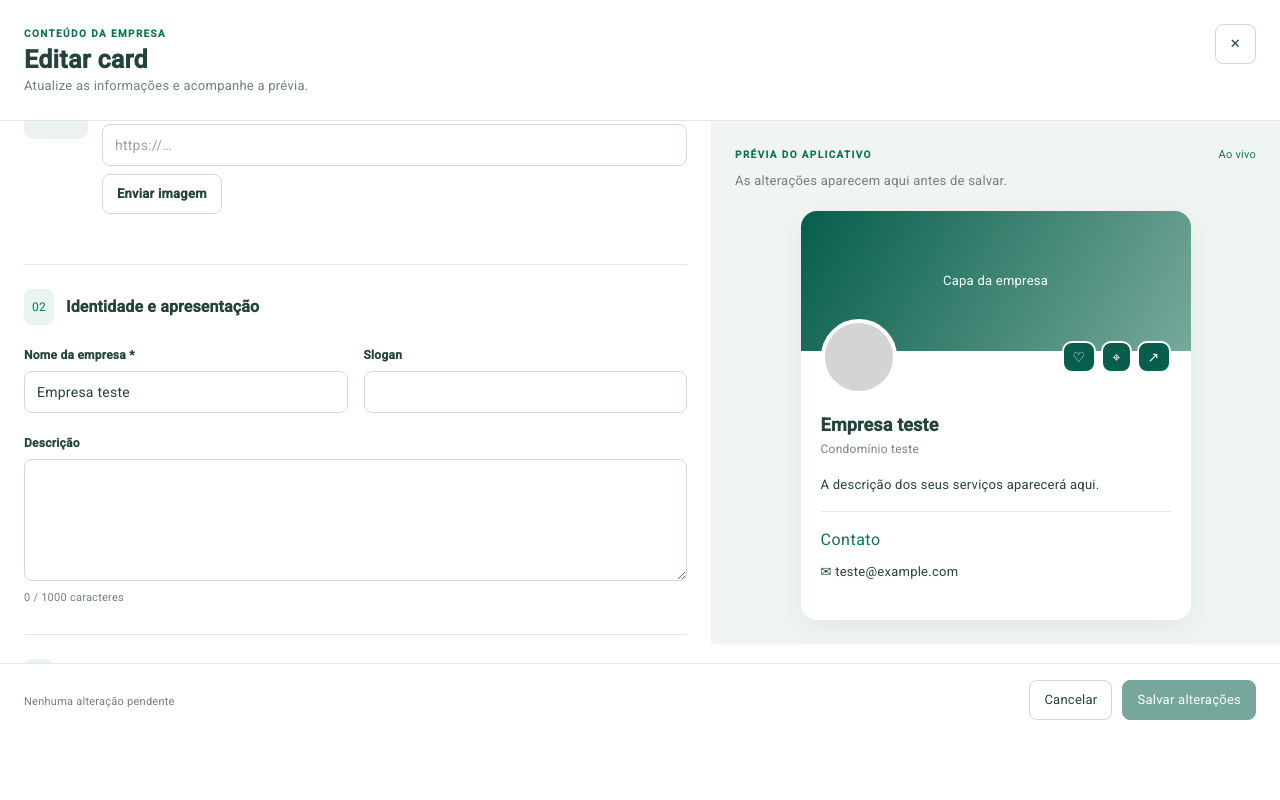
Company card editor › loads the complete company and previews unsaved text without mutating the original
(page scrolled)
Step 1. Replace the text in the field with id "card-nome" with "Novo nome" → (186, 392), box [24,370,348,412]
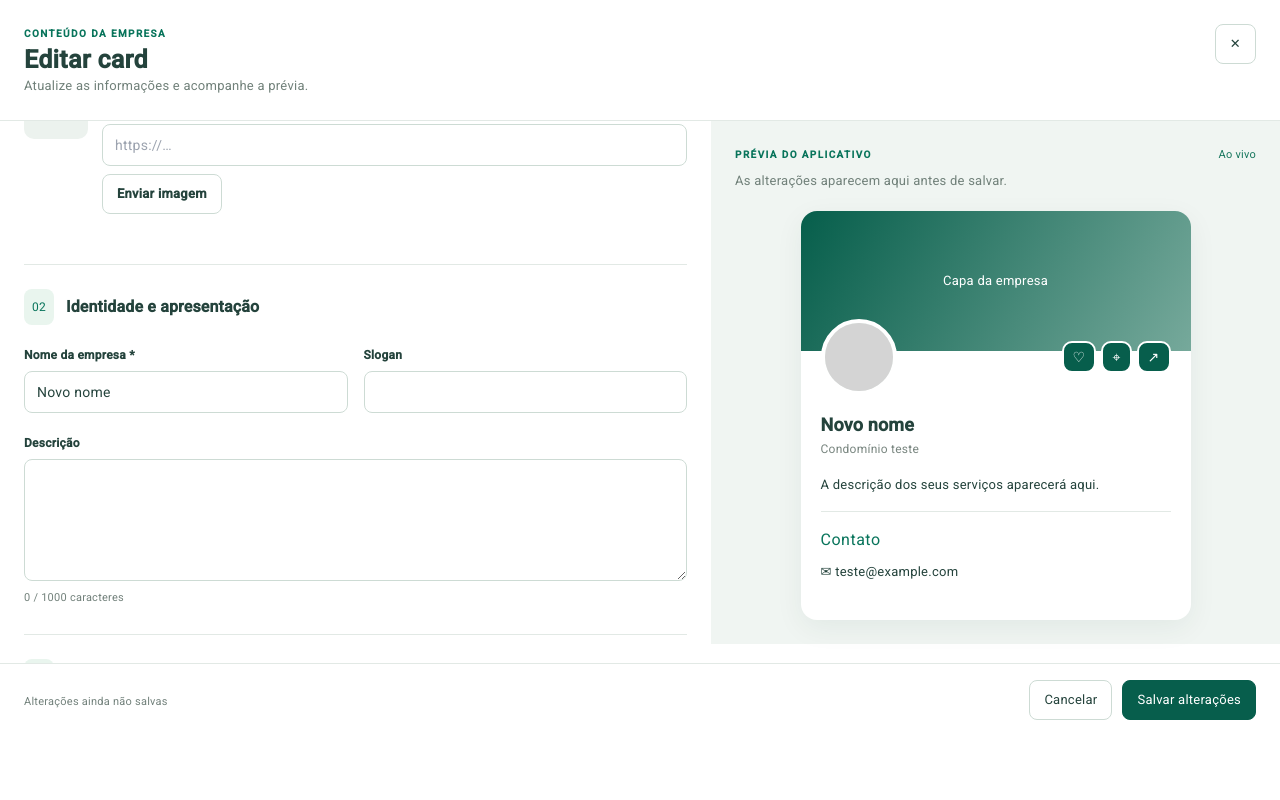
Check: the heading "Novo nome" is shown, box [820,414,914,435]
